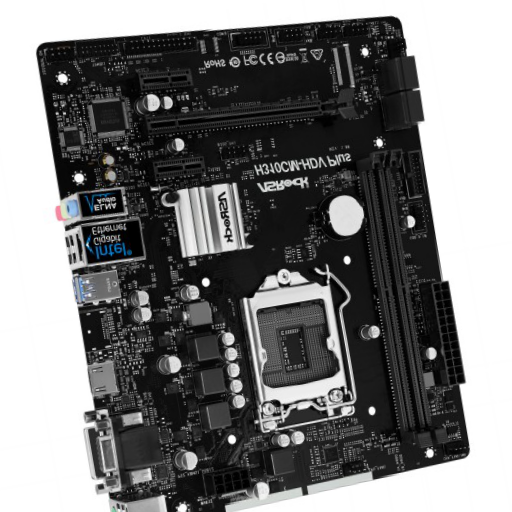CPU: (241, 270, 358, 435)
GPU: (144, 87, 360, 138)
MOTHERBOARD: (40, 18, 474, 512)
RAM: (360, 150, 452, 446)
